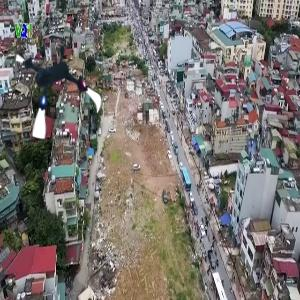drone: (6, 39, 111, 144)
